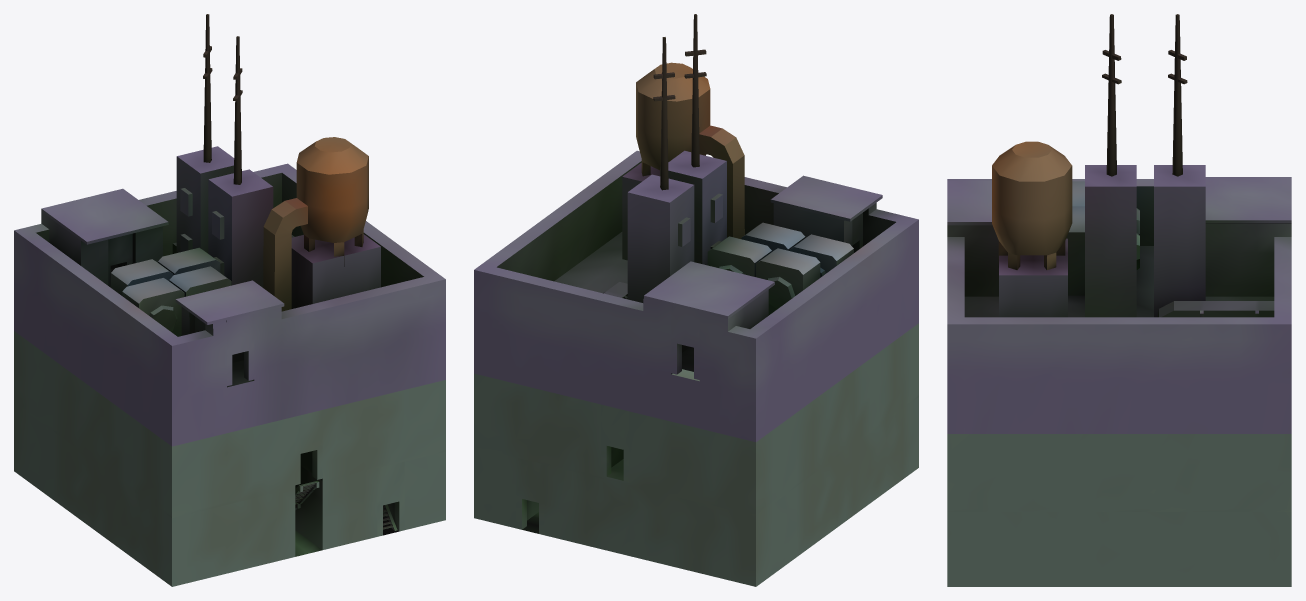
3 renders of one model, left to right at view 1: azimuth 30°, elevation 25°; view 2: azimuth 150°, elevation 25°; view 3: azimuth 270°, elevation 25°, orthographic. The views are drawn at different scales.
Visible parts, largest first — view 1: two tower roof01, cross steamtunnel; view 2: two tower roof01, cross steamtunnel; view 3: two tower roof01, cross steamtunnel.
Part boxes in pixels (<box>): two tower roof01: <box>14,14,445,446</box>; cross steamtunnel: <box>14,331,445,586</box>; two tower roof01: <box>474,14,918,442</box>; cross steamtunnel: <box>474,323,918,586</box>; two tower roof01: <box>947,14,1291,433</box>; cross steamtunnel: <box>947,434,1291,586</box>.
Size of the model in its own units: 20 by 32.15 by 20.
